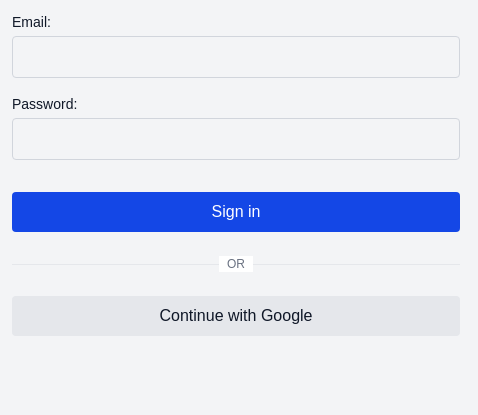
Test: SignInForm › email/password submit › shows a formatted Firebase error when email/password sign-in throws FirebaseError
The width and height of the screenshot is (478, 415).
Type "user@example.com" into the field labelled "Email:" at (236, 57), box [12,36,460,78]
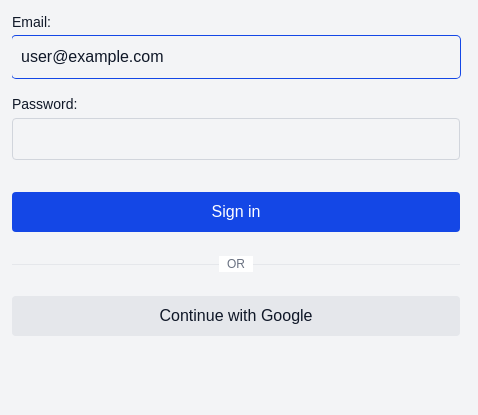
Type "bad" into the password field labelled "Password:" at (236, 139), box [12,118,460,160]
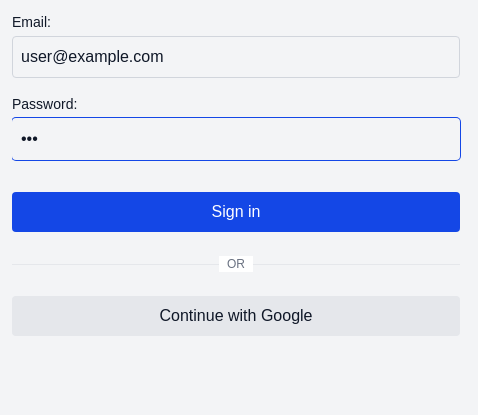
Click the button "Sign in" at (236, 212), box [12,192,460,232]
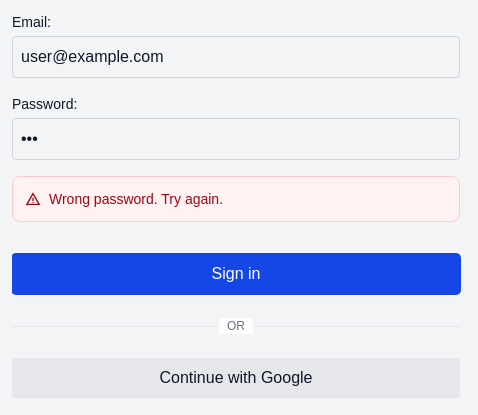
expect the text "Wrong password. Try again." is shown: met, box [25,191,223,207]
